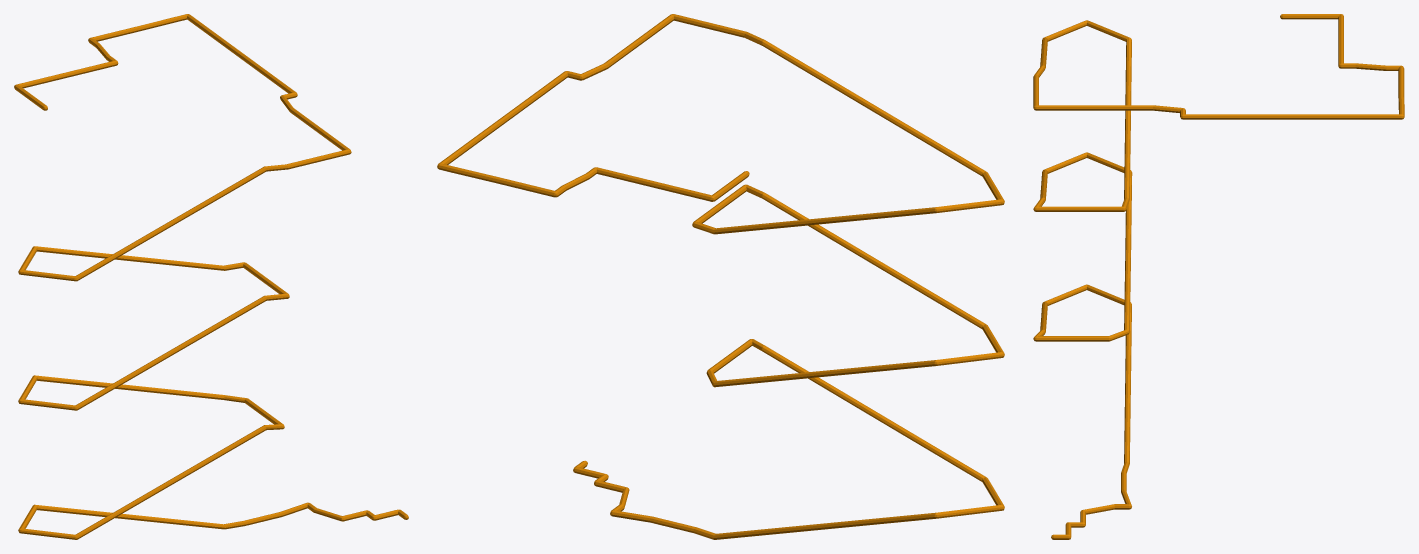
3 views of the same model, side by side, from view 1: azimuth 30°, elevation 25°; view 2: azimuth 150°, elevation 25°; view 3: azimuth 270°, elevation 25° (orthographic). The views are drawn at different scales.
Size of the model in its own units: 1513 by 1520 by 1274.
